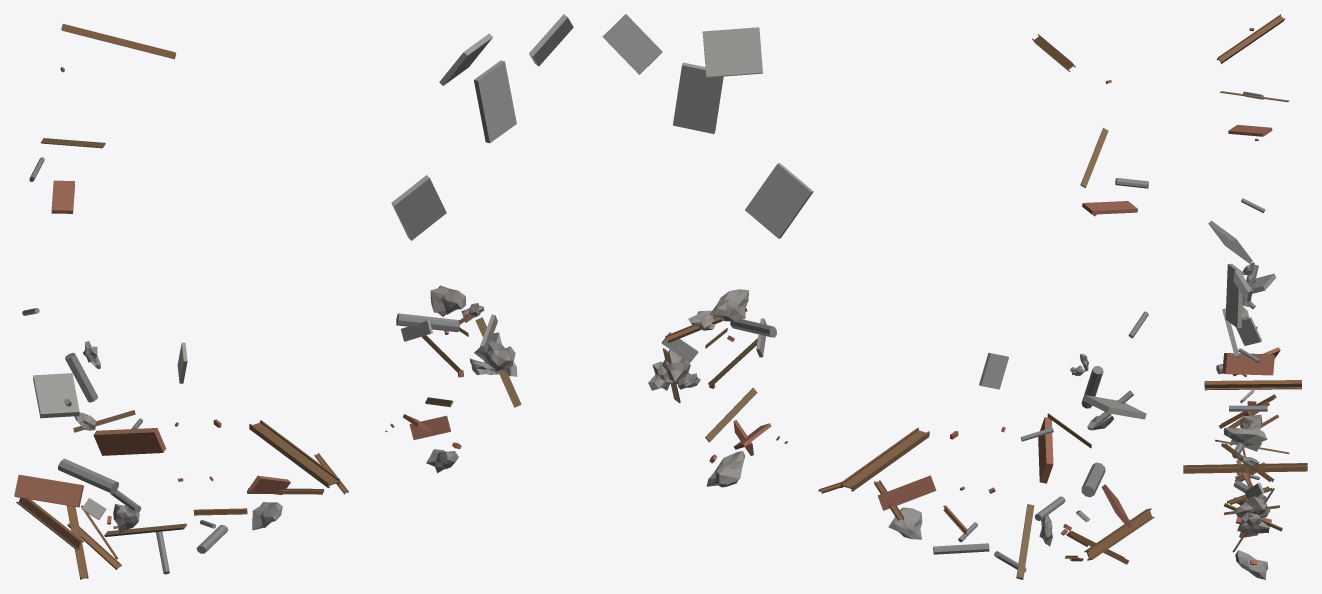
Rendered from batch_RUBBLE_p000_p002.glb.
The picture shows the model from 3 angles, left to right: view 1: azimuth 30°, elevation 25°; view 2: azimuth 150°, elevation 25°; view 3: azimuth 270°, elevation 25°; orthographic projection. The views are drawn at different scales.
Parts seen in each view (by area): view 1: SAR_Building_RUB_002_CollapsedSlab_01.001; view 2: SAR_Building_RUB_002_CollapsedSlab_01.001; view 3: SAR_Building_RUB_002_CollapsedSlab_01.001.
Part boxes in pixels (x1=…): SAR_Building_RUB_002_CollapsedSlab_01.001: x1=14, y1=14, x2=573, y2=579; SAR_Building_RUB_002_CollapsedSlab_01.001: x1=602, y1=14, x2=1154, y2=579; SAR_Building_RUB_002_CollapsedSlab_01.001: x1=1183, y1=14, x2=1307, y2=579.
Bounding box in the file's own units: 27.04 × 26.04 × 6.68.
